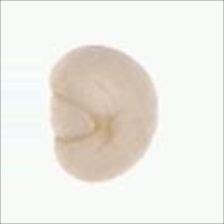L5: (48, 89, 104, 149)
L6: (48, 43, 161, 187)
